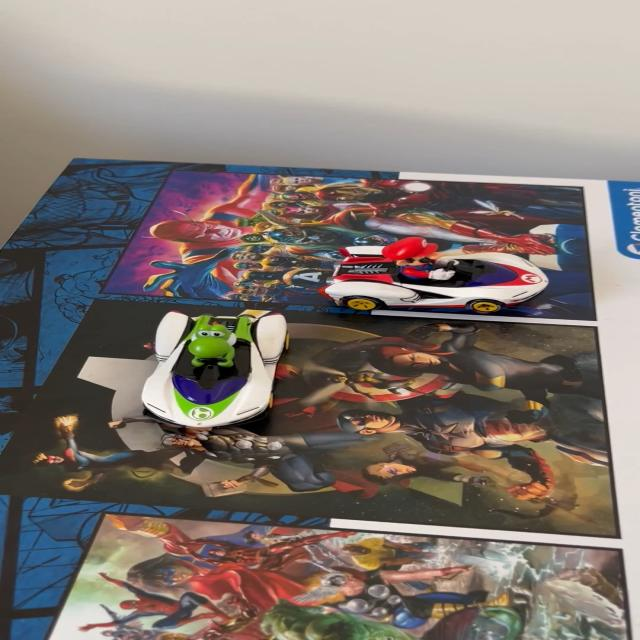mario: (320, 237, 569, 315)
yoshi: (132, 301, 298, 439)
